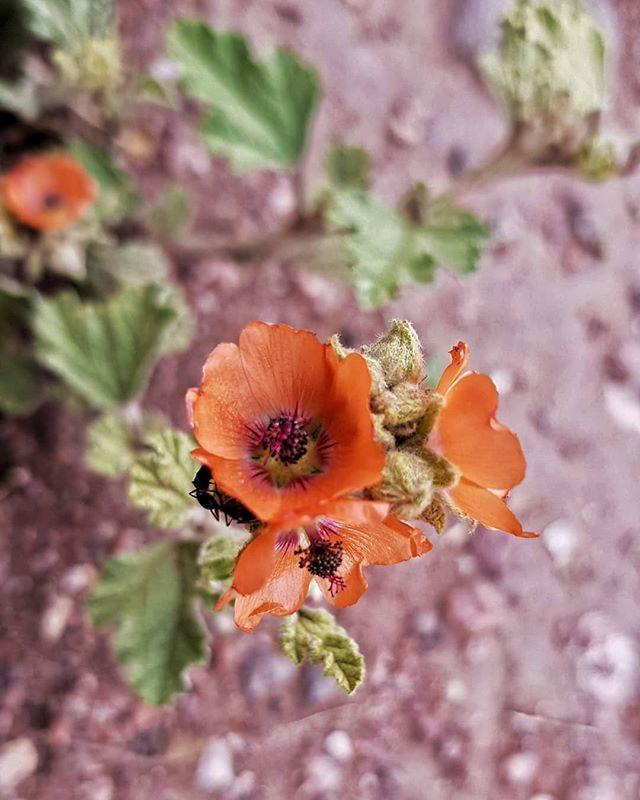flowers: (152, 296, 589, 721)
